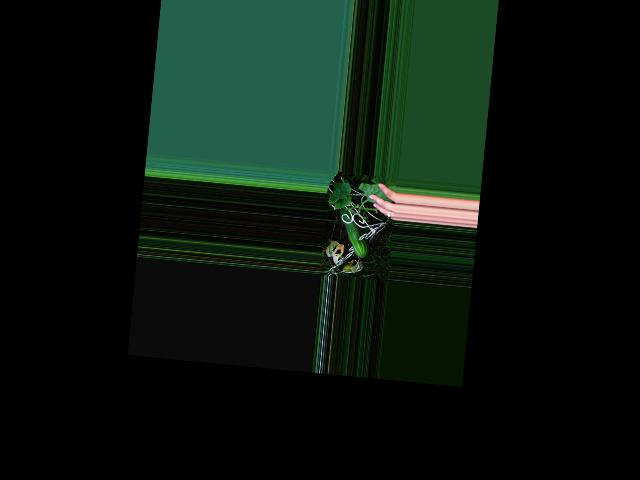cucumber: (335, 206, 373, 258)
